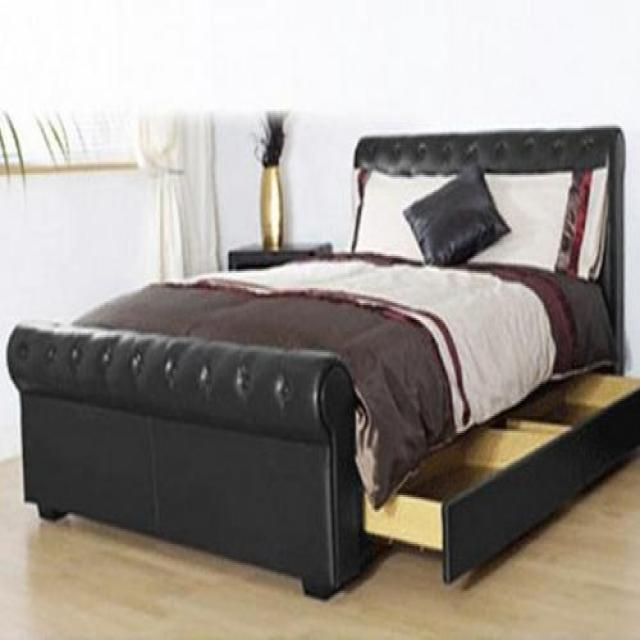bed: (5, 122, 640, 598)
